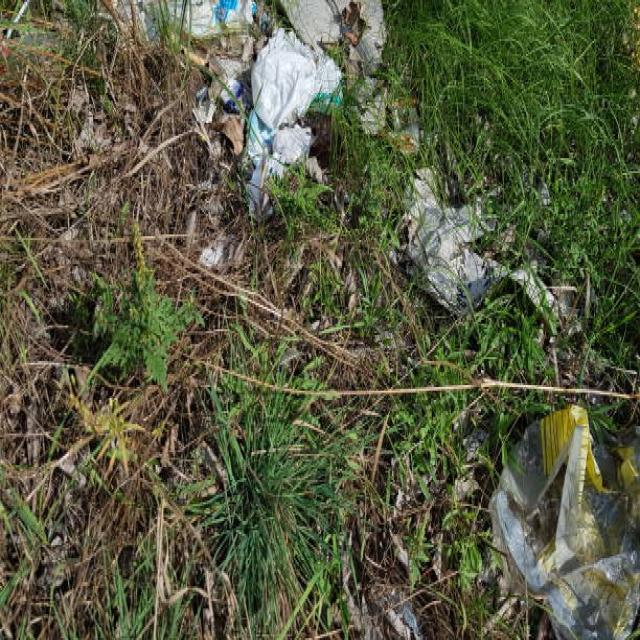plastic: (169, 2, 390, 218)
